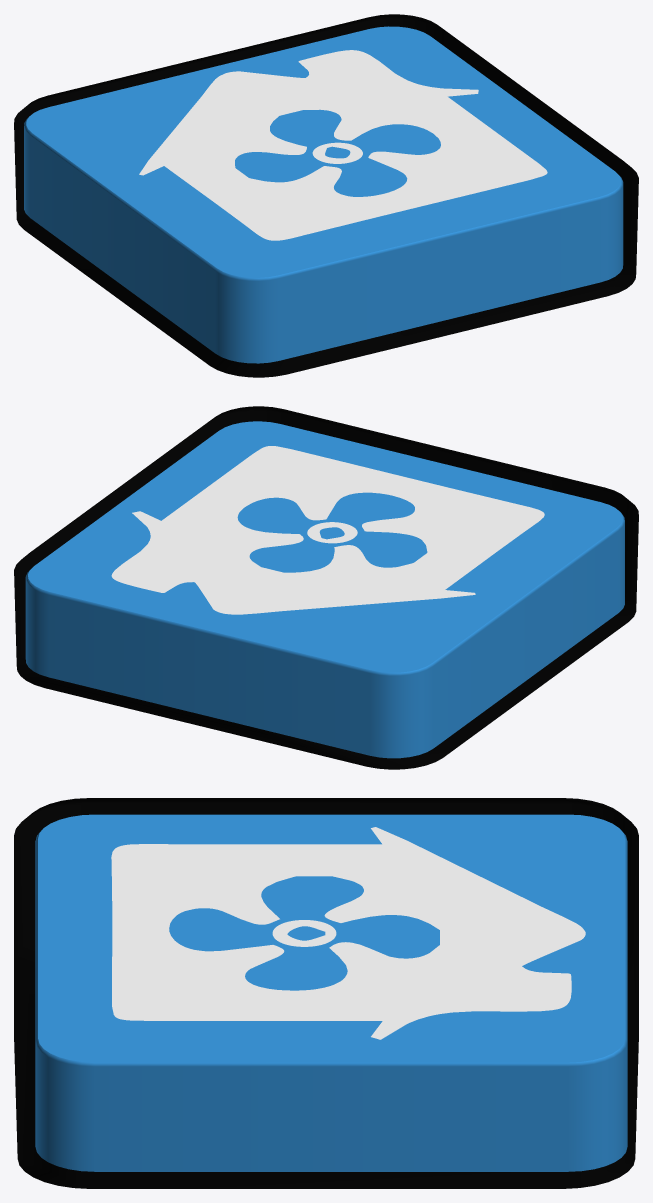
File: NewFan.obj
The picture shows the model from 3 angles, top to bottom: view 1: azimuth 30°, elevation 25°; view 2: azimuth 150°, elevation 25°; view 3: azimuth 270°, elevation 25°; orthographic projection. The views are drawn at different scales.
Visible parts, largest first — view 1: NewFan; view 2: NewFan; view 3: NewFan.
Boxes of the visible parts, x1,y1,x2,y2 form: NewFan: [14, 14, 638, 377]; NewFan: [14, 406, 638, 769]; NewFan: [14, 798, 638, 1188].
Bounding box in the file's own units: 1.06 × 0.2484 × 1.06.
